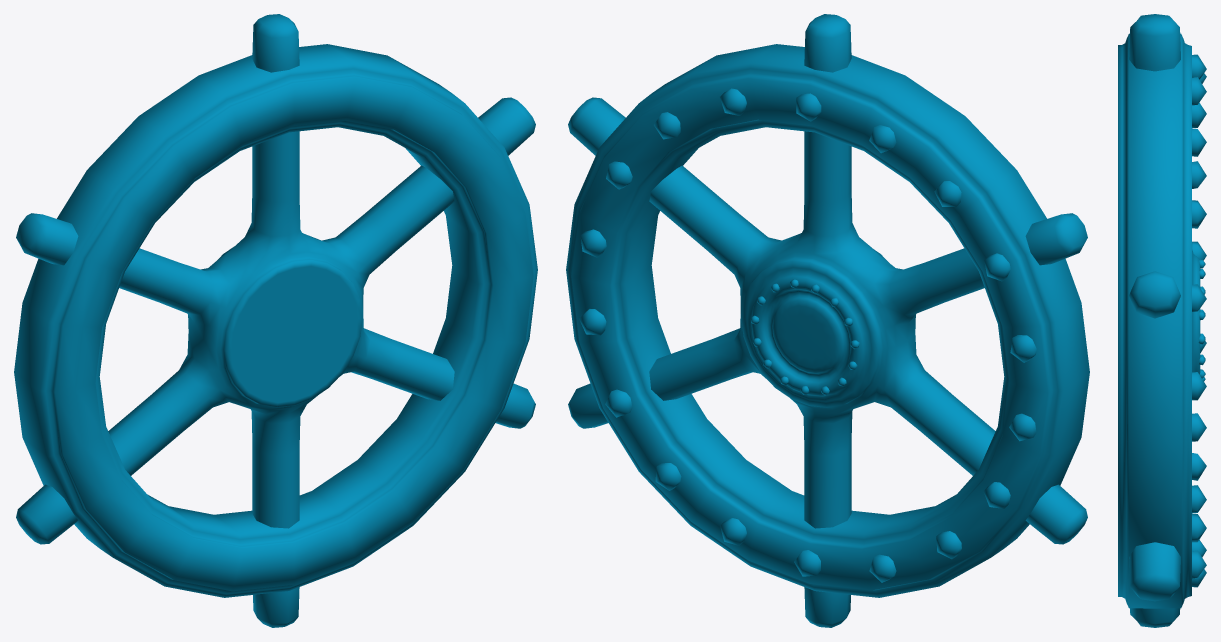
The model's file is SHW.f168925b.glb.
3 renders of one model, left to right at view 1: azimuth 30°, elevation 25°; view 2: azimuth 150°, elevation 25°; view 3: azimuth 270°, elevation 25°, orthographic.
Visible parts, largest first — view 1: Ship_wheel_1,_colorize_; view 2: Ship_wheel_1,_colorize_; view 3: Ship_wheel_1,_colorize_.
Boxes of the visible parts, <box> form: Ship_wheel_1,_colorize_: <box>14,14,537,627</box>; Ship_wheel_1,_colorize_: <box>566,14,1089,627</box>; Ship_wheel_1,_colorize_: <box>1118,14,1206,627</box>.
Size of the model in its own units: 0.3962 by 0.4475 by 0.0597.
